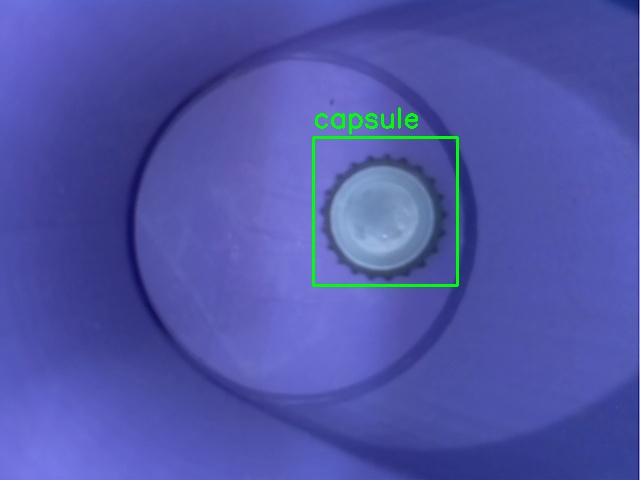capsule: (313, 137, 457, 285)
